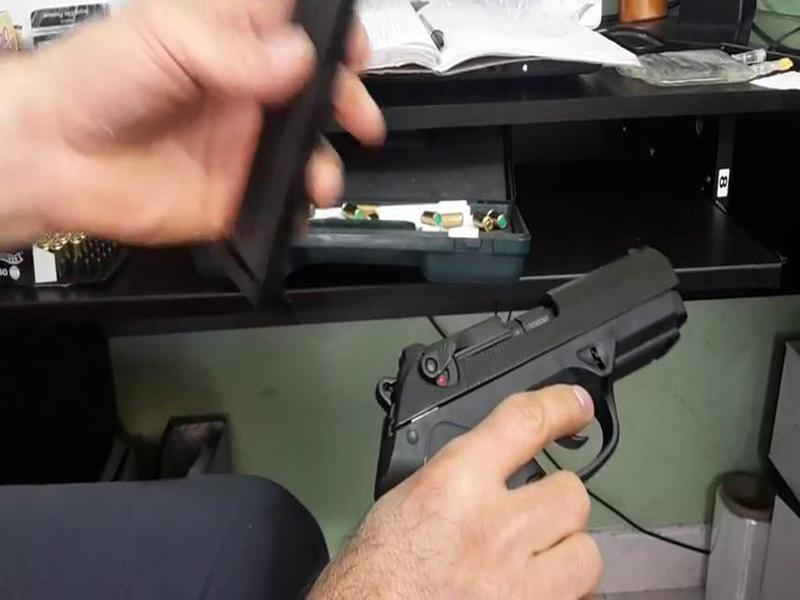Pistola: (365, 234, 712, 526)
